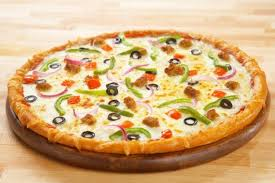pizza: (9, 24, 267, 160)
